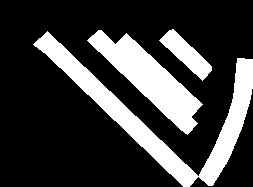parkingspot: (33, 31, 198, 187), (87, 30, 197, 134), (116, 33, 202, 117), (198, 58, 253, 185), (159, 29, 211, 80)
